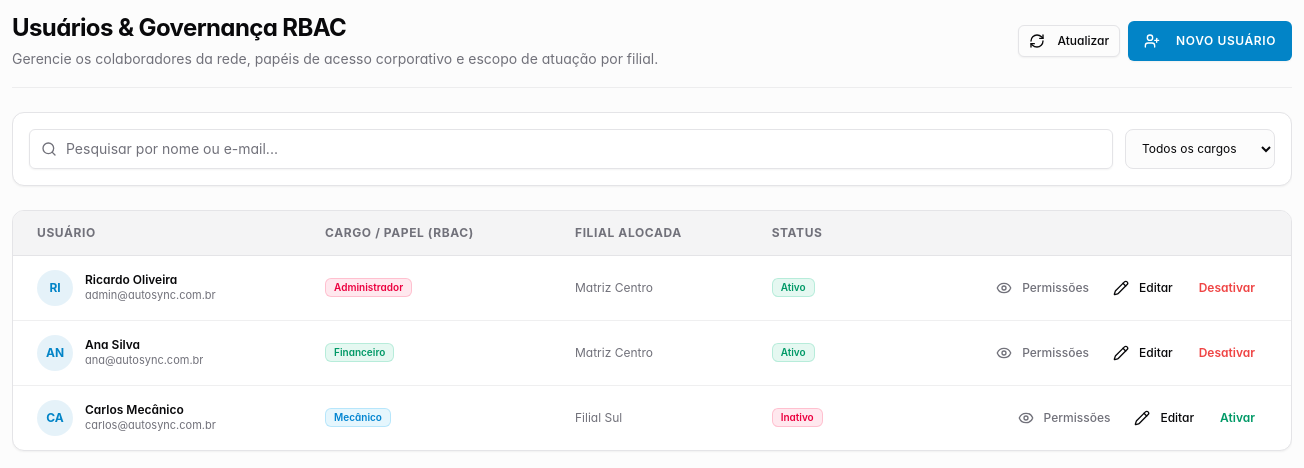
Test: Users & RBAC Module (Integrated Management) › 3. should filter users by role dropdown
This screenshot has width=1304, height=468.
Expected: the text "Ricardo Oliveira" is shown, [85,272,177,287]
Select "Mecânico" in the dropdown named "Filtrar por Papel" at (1200, 149), box [1125,129,1275,169]
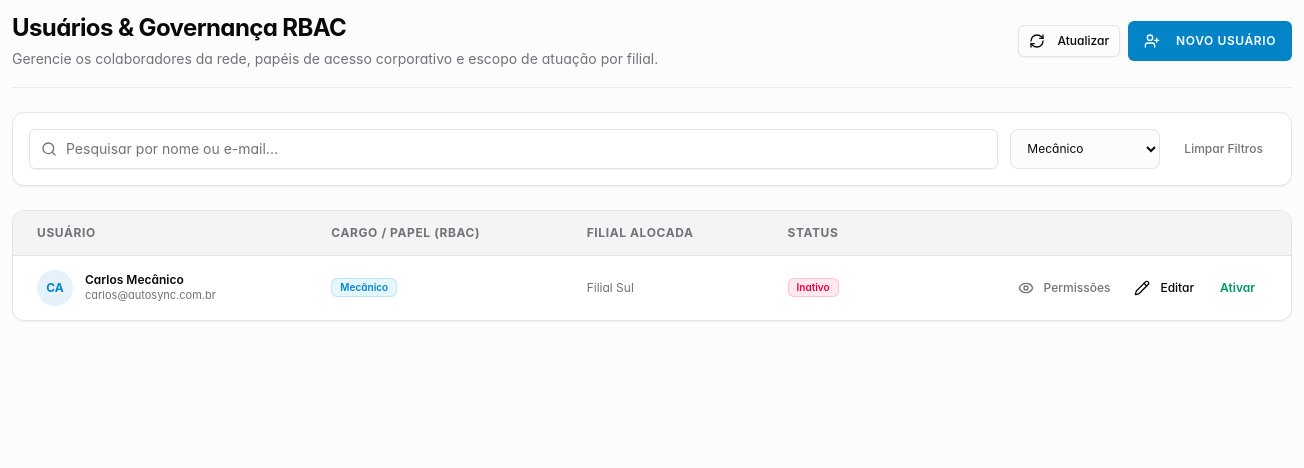
Expected: the text "Carlos Mecânico" is shown, [85,272,184,287]
Expected: the text "Ricardo Oliveira" is gone
